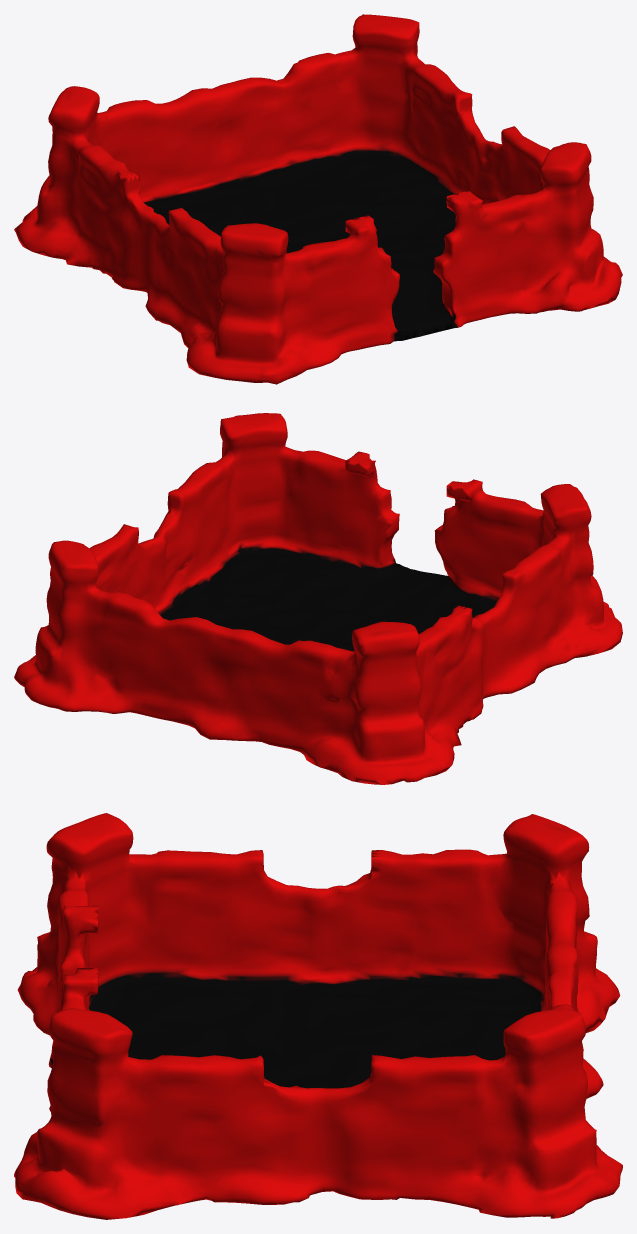
The model's file is mining_zone_building.glb.
3 renders of one model, top to bottom at view 1: azimuth 30°, elevation 25°; view 2: azimuth 150°, elevation 25°; view 3: azimuth 270°, elevation 25°, orthographic. The views are drawn at different scales.
Visible parts, largest first — view 1: Mesh_0; view 2: Mesh_0; view 3: Mesh_0.
Part boxes in pixels (left/top/right/bottom): Mesh_0: left=14, top=14, right=622, bottom=384; Mesh_0: left=14, top=413, right=622, bottom=784; Mesh_0: left=14, top=813, right=622, bottom=1219.
Size of the model in its own units: 1.91 by 0.5658 by 1.88.
